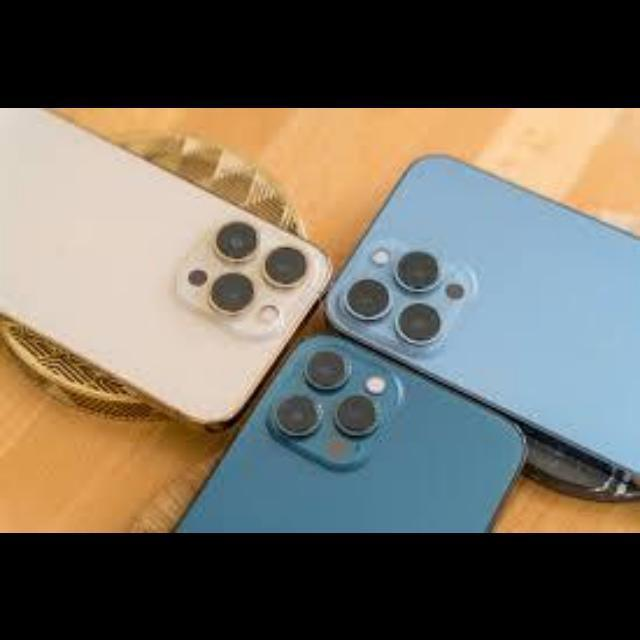PhoneUse: (2, 108, 334, 428), (325, 152, 639, 472), (170, 334, 528, 532)
